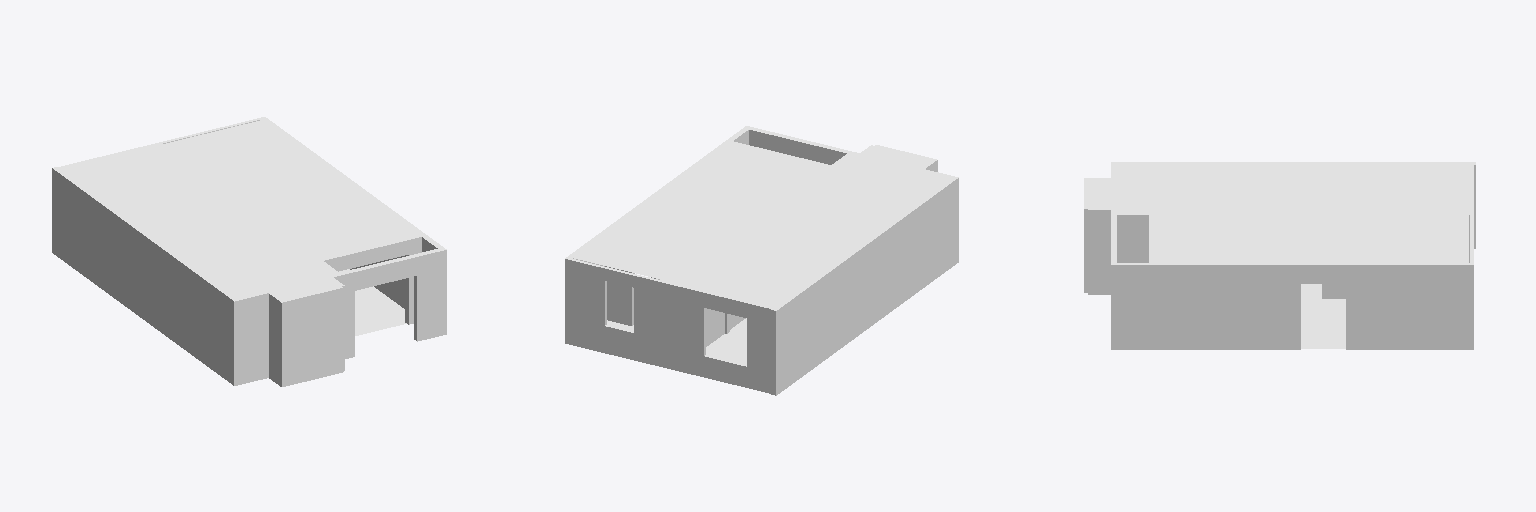
The model's file is render.obj.
The picture shows the model from 3 angles: view 1: azimuth 30°, elevation 25°; view 2: azimuth 150°, elevation 25°; view 3: azimuth 270°, elevation 25°; orthographic projection.
Visible parts, largest first — view 1: room_1_164, room_2_166, wall_21_125, wall_3_17, room_5_172, wall_27_161, wall_20_119, wall_25_149, room_6_174, wall_1_5, room_3_168, room_1_163 (+4 smaller); view 2: room_1_164, wall_22_131, room_2_166, wall_21_125, wall_23_137, room_5_172, wall_25_149, wall_20_119, room_6_174, room_3_168, room_4_170, wall_27_158 (+2 smaller); view 3: wall_15_89, room_1_164, room_2_166, wall_12_71, room_5_172, wall_14_83, room_6_174, room_3_168, room_1_163, wall_4_23, wall_16_92, room_4_170.
Boxes of the visible parts, x1=… form: room_1_164: x1=199, y1=146, x2=417, y2=257; room_2_166: x1=162, y1=218, x2=336, y2=298; wall_21_125: x1=154, y1=243, x2=233, y2=385; wall_3_17: x1=282, y1=288, x2=343, y2=386; room_5_172: x1=59, y1=144, x2=203, y2=203; wall_27_161: x1=340, y1=250, x2=446, y2=358; wall_20_119: x1=104, y1=206, x2=153, y2=326; wall_25_149: x1=54, y1=170, x2=103, y2=289; room_6_174: x1=164, y1=120, x2=292, y2=166; wall_1_5: x1=234, y1=293, x2=268, y2=385; room_3_168: x1=112, y1=192, x2=218, y2=239; room_1_163: x1=339, y1=269, x2=406, y2=335; room_1_164: x1=608, y1=144, x2=826, y2=255; wall_22_131: x1=565, y1=259, x2=671, y2=369; room_2_166: x1=779, y1=148, x2=949, y2=233; wall_21_125: x1=879, y1=178, x2=958, y2=319; wall_23_137: x1=672, y1=285, x2=770, y2=393; room_5_172: x1=677, y1=249, x2=820, y2=308; wall_25_149: x1=778, y1=273, x2=828, y2=393; wall_20_119: x1=829, y1=236, x2=878, y2=356; room_6_174: x1=574, y1=235, x2=702, y2=281; room_3_168: x1=765, y1=221, x2=870, y2=269; room_4_170: x1=728, y1=213, x2=803, y2=253; wall_27_158: x1=749, y1=130, x2=846, y2=164; wall_15_89: x1=1153, y1=265, x2=1401, y2=349; room_1_164: x1=1153, y1=213, x2=1398, y2=263; room_2_166: x1=1091, y1=165, x2=1267, y2=211; wall_12_71: x1=1402, y1=265, x2=1473, y2=349; room_5_172: x1=1374, y1=165, x2=1473, y2=211; wall_14_83: x1=1111, y1=265, x2=1152, y2=349; room_6_174: x1=1405, y1=215, x2=1468, y2=262; room_3_168: x1=1274, y1=165, x2=1366, y2=194; room_1_163: x1=1301, y1=298, x2=1345, y2=348; wall_4_23: x1=1088, y1=210, x2=1110, y2=294; wall_16_92: x1=1117, y1=215, x2=1148, y2=262; room_4_170: x1=1274, y1=195, x2=1366, y2=212.
Bounding box in the file's own units: 734 × 280 × 1170.